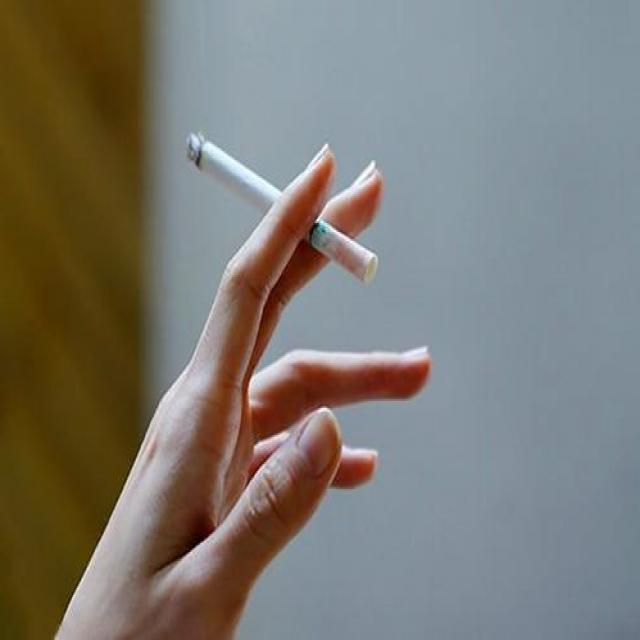smoking: (175, 130, 382, 284)
